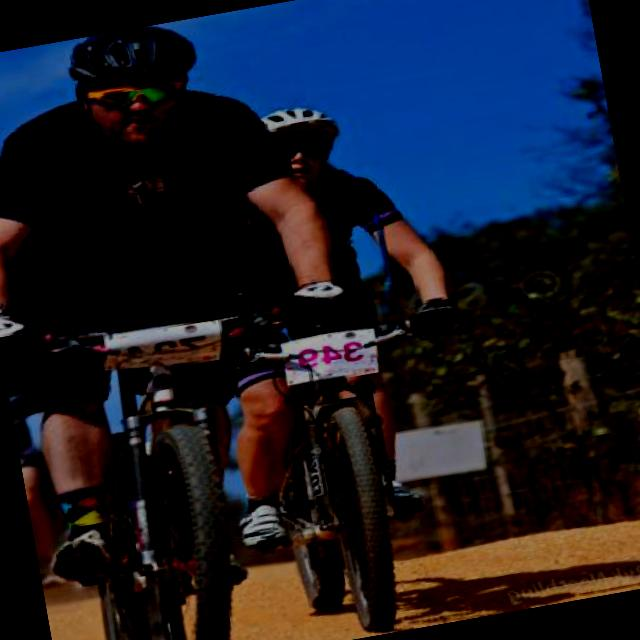Person: (0, 0, 399, 589), (196, 84, 504, 554)
